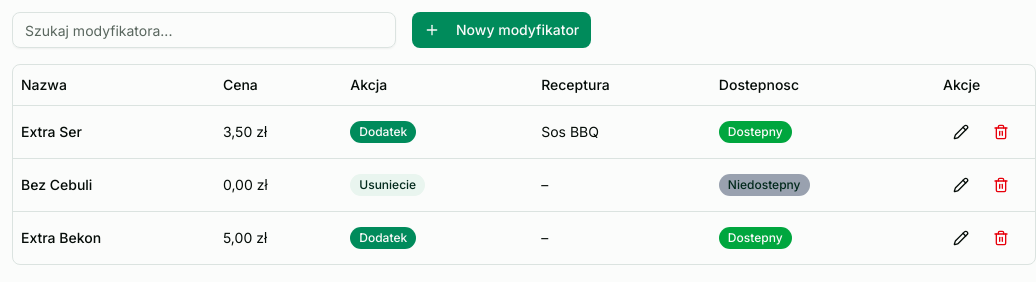
Test: ModifierManagement › search filters modifiers by name
The width and height of the screenshot is (1036, 282).
Type "Bekon" into the field with placeholder "Szukaj modyfikatora..." at (204, 30), box [12, 12, 396, 48]
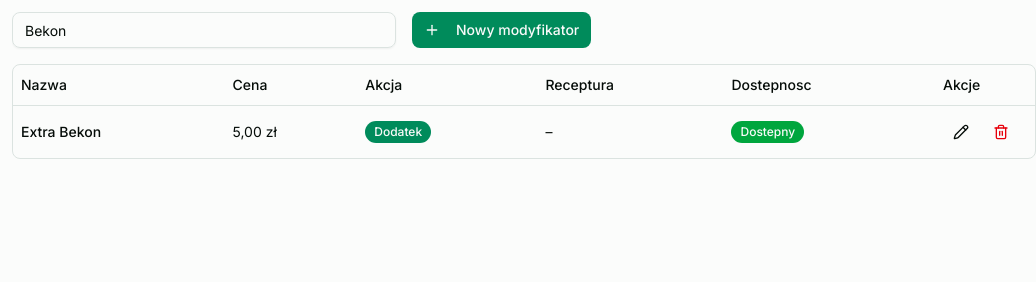
Expected: the text "Extra Bekon" is shown, [13, 105, 224, 158]
Now the text "Extra Ser" is gone
Now the text "Bez Cebuli" is gone
